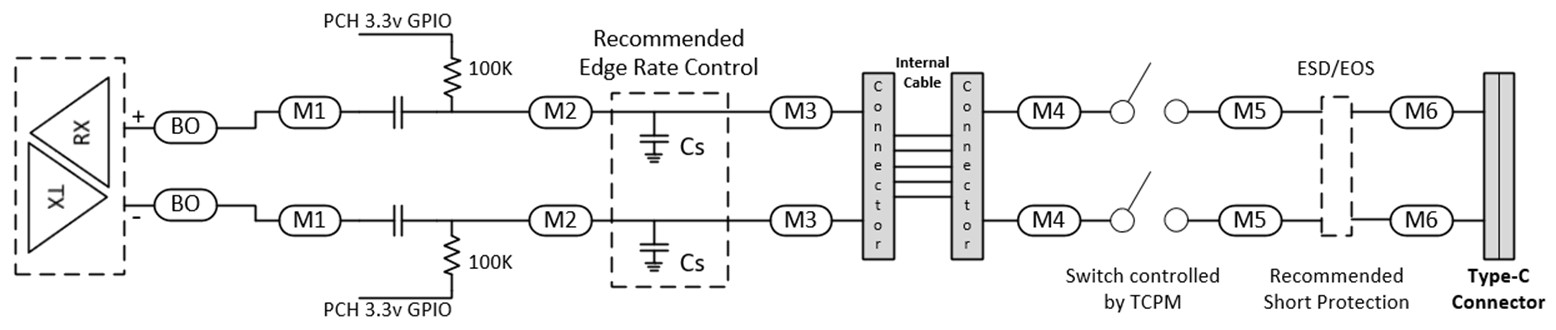capacitor: (385, 95, 409, 133), (390, 203, 406, 244)
dotted_rectangle: (7, 49, 130, 282), (605, 84, 733, 298), (1317, 93, 1355, 245)
ground: (635, 103, 674, 173), (637, 212, 672, 280)
oval: (1392, 88, 1456, 136), (1388, 198, 1456, 242), (1219, 200, 1284, 240), (1018, 91, 1082, 131), (769, 94, 835, 132), (1221, 96, 1285, 135), (528, 95, 592, 132), (155, 187, 220, 223), (1017, 204, 1082, 239), (280, 203, 341, 240), (770, 201, 831, 238), (529, 204, 595, 238), (280, 94, 344, 129), (155, 110, 218, 145)
rectangle: (860, 68, 898, 264), (1482, 72, 1519, 268), (950, 69, 984, 261)
resistor: (439, 54, 469, 100), (440, 234, 463, 276)
switch: (1111, 63, 1190, 131), (1111, 169, 1188, 237)
triangle: (21, 140, 113, 258), (27, 71, 115, 192)
